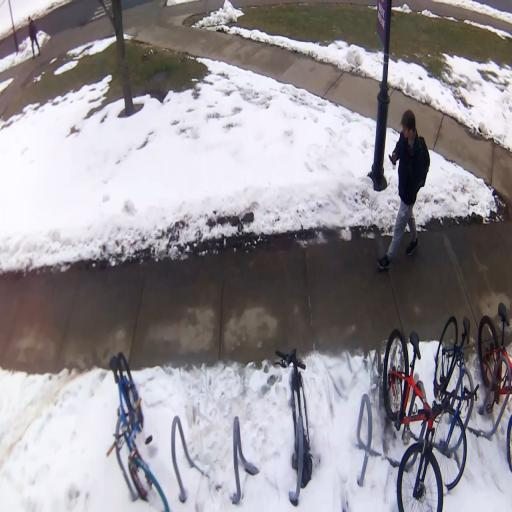pessoa: (375, 104, 432, 275), (26, 11, 41, 61)
